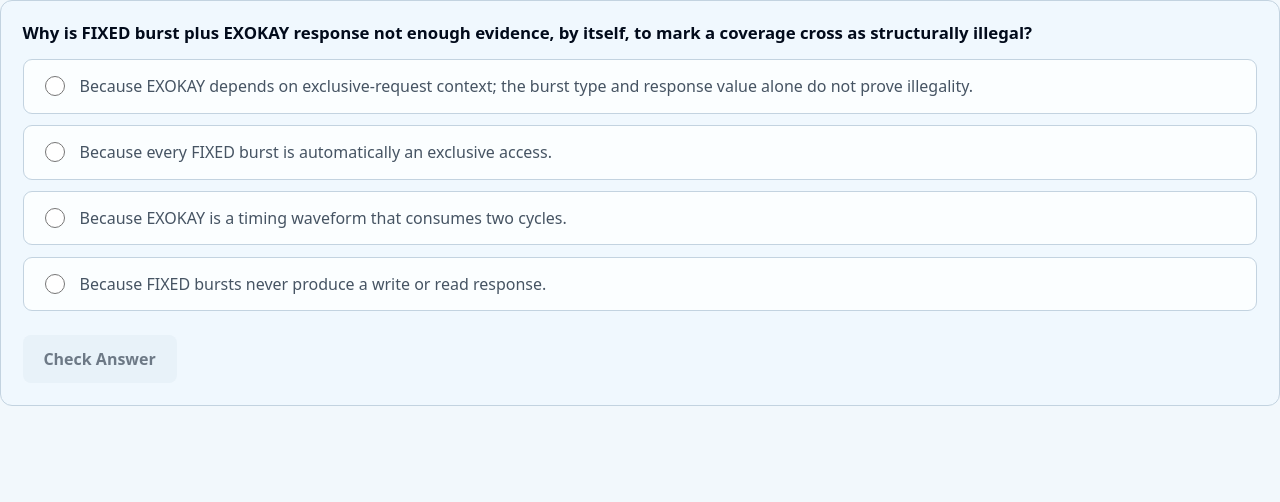
Test: InteractiveExercise › Integration with specific Phase 7.1 content › renders ex-axi-coverage-holes as a multiple-choice exercise and handles incorrect answer
Expected: the heading "Why is FIXED burst plus EXOKAY response not enough evidence" is shown, x1=23 y1=21 x2=1032 y2=44
# Select incorrect answer (index 1)
Click the text "Because every FIXED burst is automatically" at (316, 152), box x1=80 y1=140 x2=552 y2=164
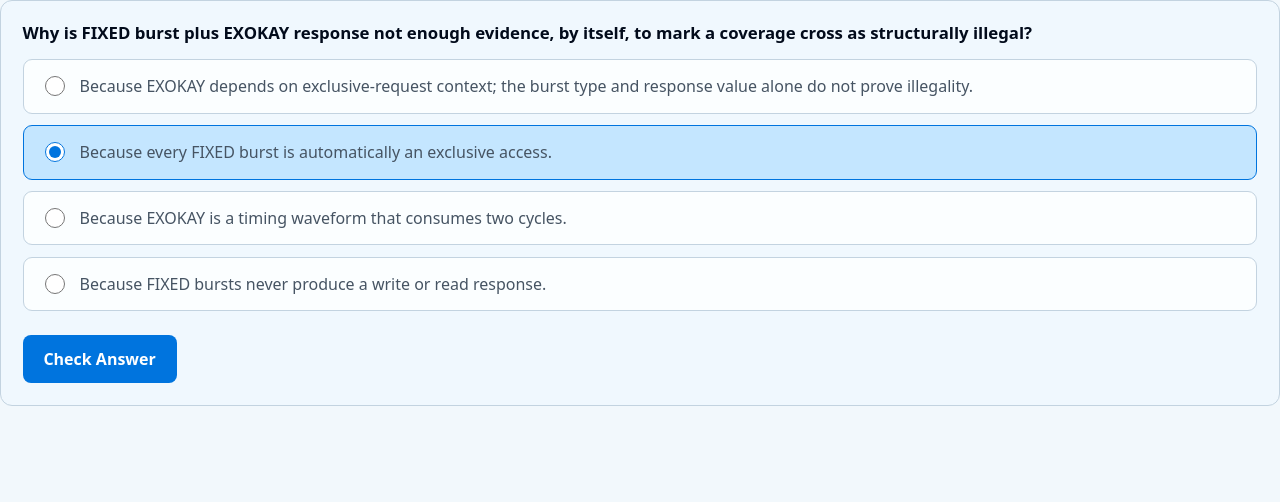
Click the button "Check Answer" at (100, 359), box x1=23 y1=335 x2=177 y2=383
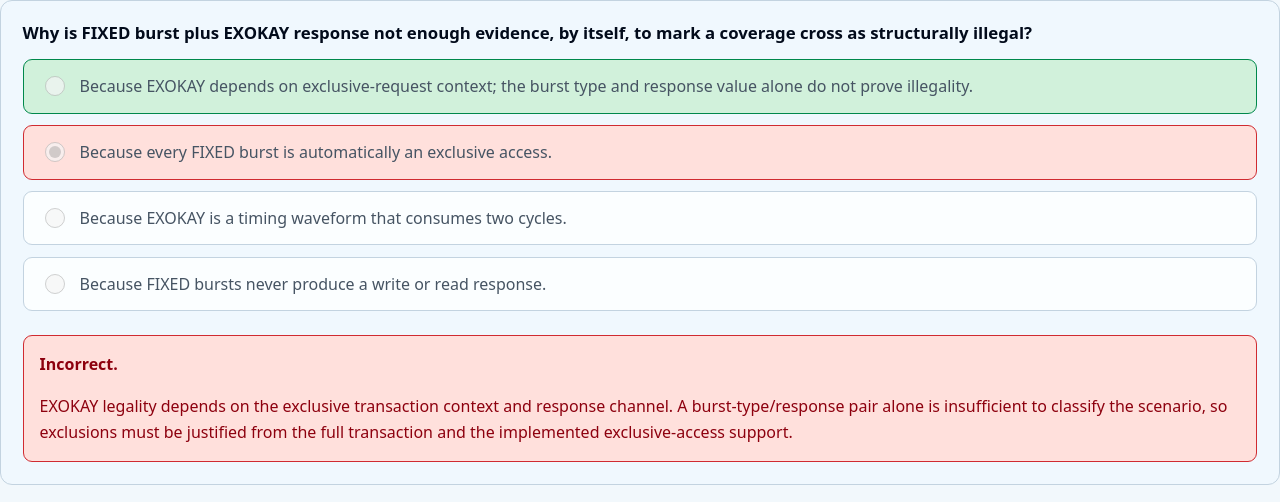
Now the text "Incorrect." is shown, box x1=40 y1=353 x2=118 y2=375
Now the text "EXOKAY legality depends on the exclusive transaction context" is shown, box x1=40 y1=395 x2=1227 y2=443
